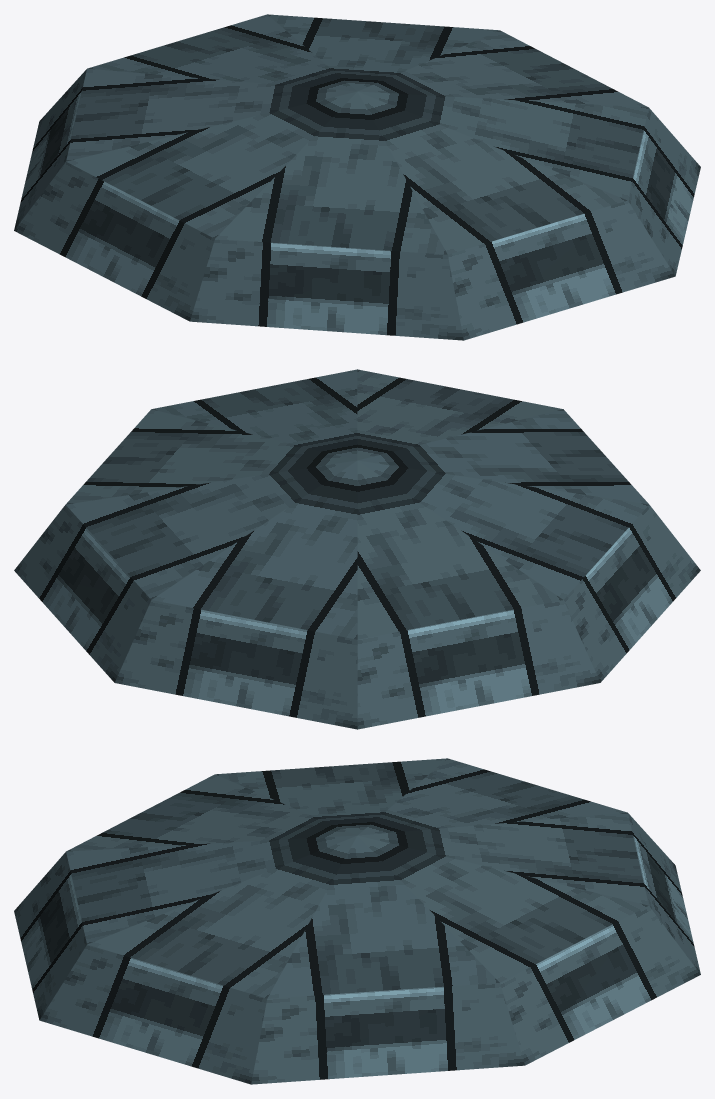
Rendered from primary_102.glb.
3 views of the same model, one above another, from view 1: azimuth 30°, elevation 25°; view 2: azimuth 150°, elevation 25°; view 3: azimuth 270°, elevation 25° (orthographic). The views are drawn at different scales.
Parts seen in each view (by area): view 1: Object; view 2: Object; view 3: Object.
Part boxes in pixels (left/top/right/bottom): Object: left=14, top=14, right=700, bottom=340; Object: left=14, top=369, right=700, bottom=729; Object: left=14, top=758, right=700, bottom=1084.
Bounding box in the file's own units: 0.936 × 0.1654 × 0.9591.
2 materials, 2 textured.
